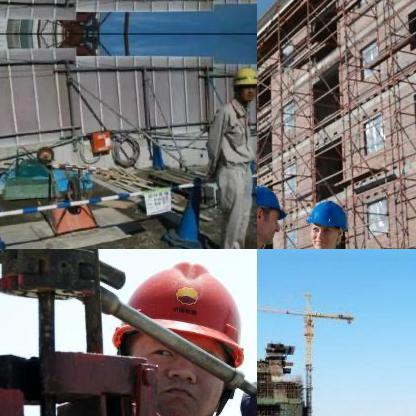Helmet: (95, 249, 256, 415), (302, 191, 347, 248), (257, 176, 286, 247), (229, 61, 256, 104)
